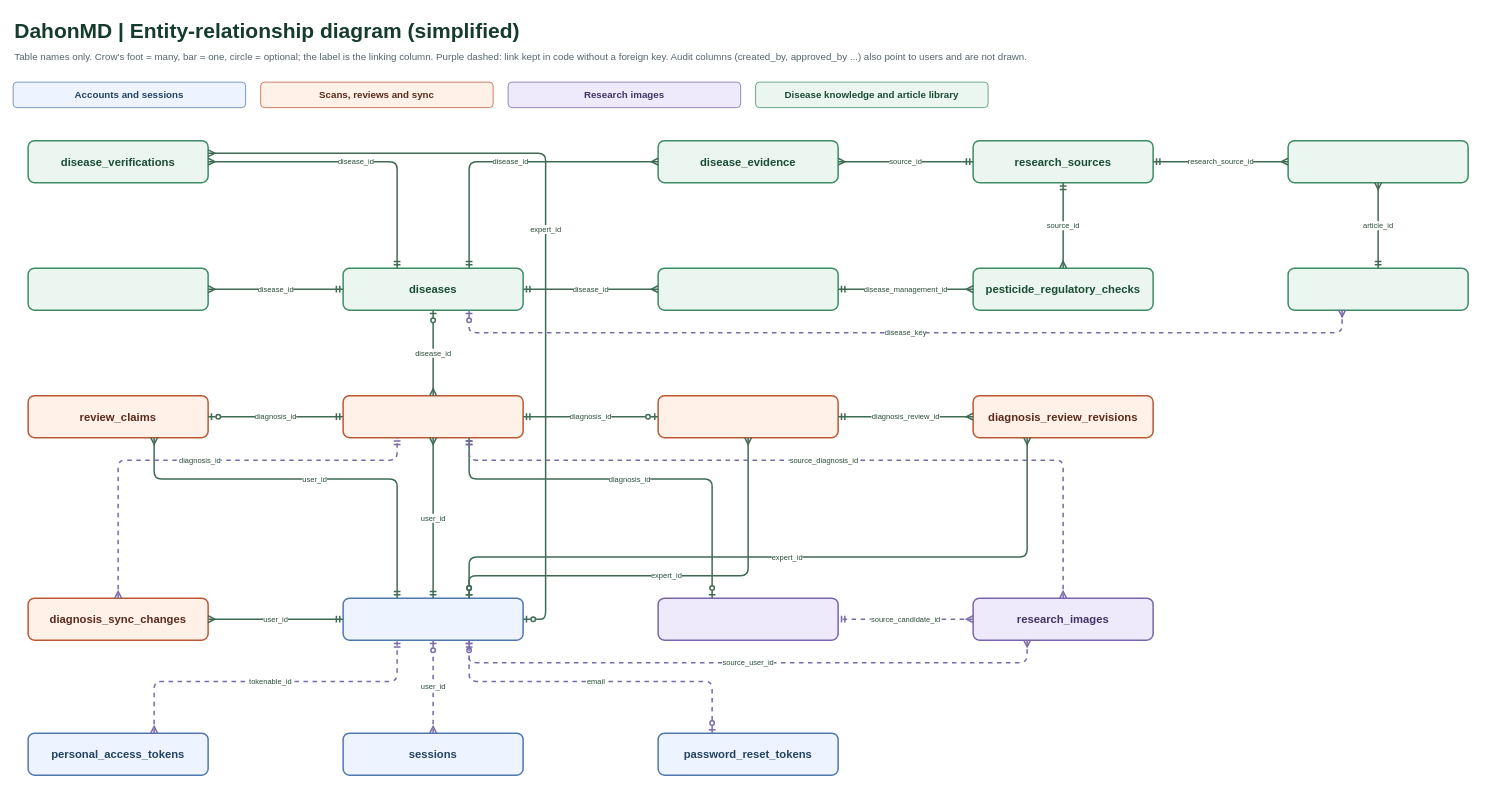
The diagram is 1496 pixels wide and 788 high, and some of its shapes have lost their labels. Each missing label, with the centre of its shape:
article_research_source: point (1377, 161)
articles: point (1377, 288)
dataset_candidates: point (747, 618)
diagnoses: point (433, 416)
diagnosis_reviews: point (747, 416)
disease_management: point (747, 288)
disease_symptoms: point (117, 288)
users: point (433, 618)
